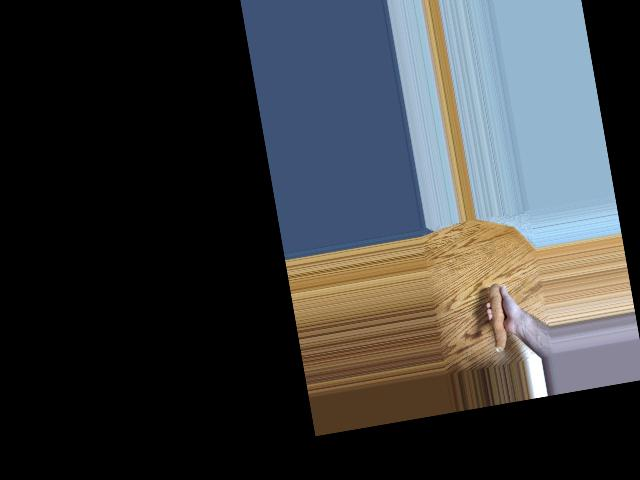sweet_potato: (485, 284, 517, 353)
